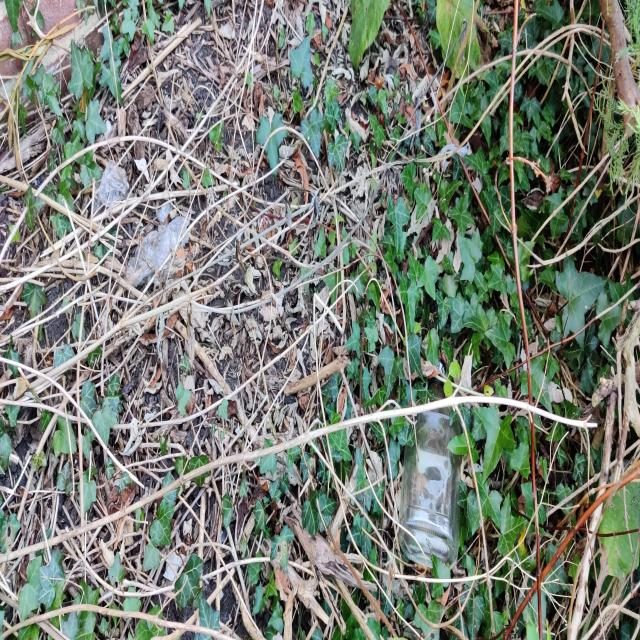litter: (395, 389, 465, 558), (121, 213, 190, 290), (95, 154, 125, 209)
